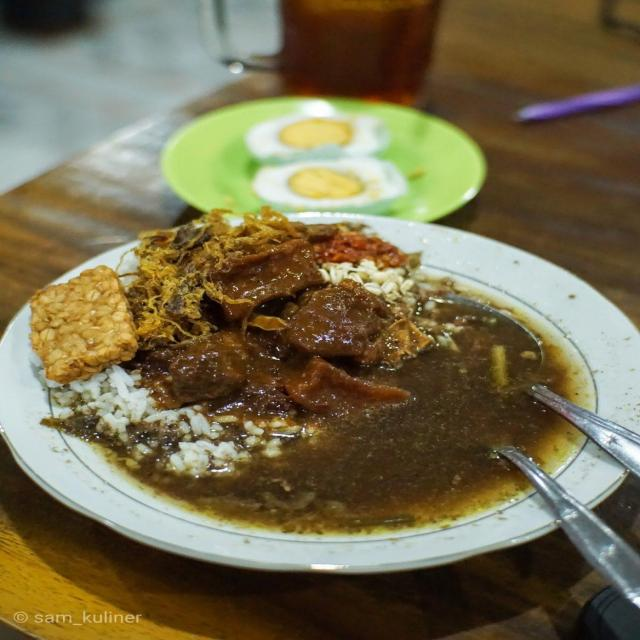Rawon: (100, 260, 570, 507)
